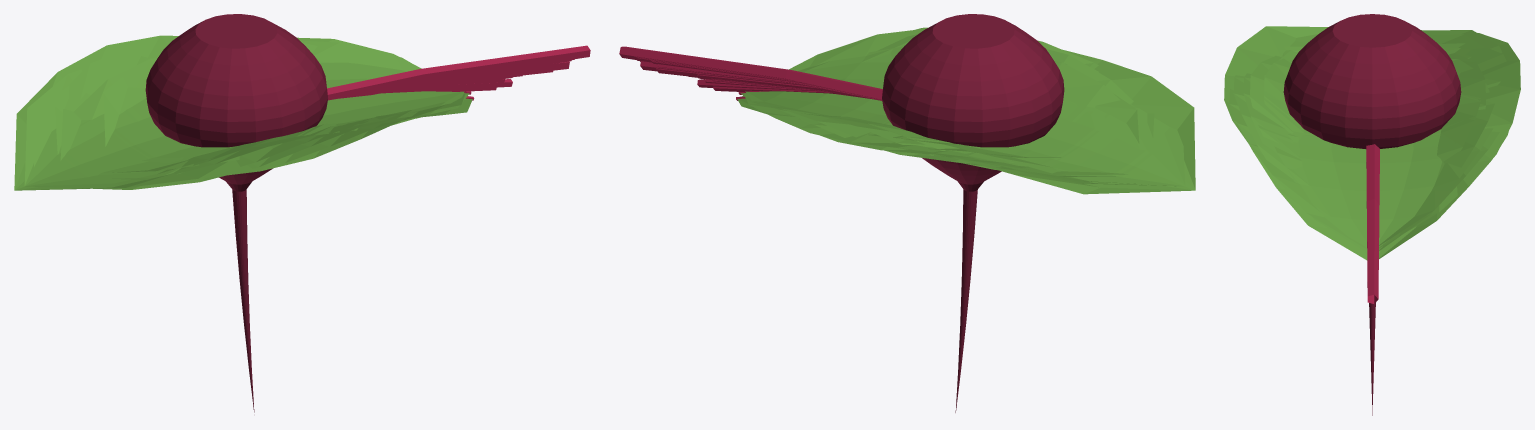
Rendered from beetroot_harvest_v11.articulated.glb.
3 renders of one model, left to right at view 1: azimuth 30°, elevation 25°; view 2: azimuth 150°, elevation 25°; view 3: azimuth 270°, elevation 25°, orthographic. The views are drawn at different scales.
Visible parts, largest first — view 1: root, leaf06_link2, leaf08_link2, leaf08_link0, leaf04_link2, leaf07_link2, leaf01_link2, leaf02_link2, leaf00_link2, leaf01_link0, leaf03_link2, leaf01_link1; view 2: root, leaf06_link2, leaf08_link2, leaf07_link2, leaf08_link0, leaf03_link2, leaf01_link2, leaf00_link2, leaf04_link2, leaf02_link2, leaf00_link0; view 3: root, leaf06_link2, leaf08_link2, leaf01_link2, leaf04_link2, leaf07_link2, leaf03_link2, leaf08_link0, leaf00_link2, leaf05_link2, leaf02_link2.
Part boxes in pixels (x1,y1,x2,y2): root: (145, 14, 327, 412); leaf06_link2: (24, 37, 465, 189); leaf08_link2: (14, 35, 466, 190); leaf08_link0: (327, 45, 590, 100); leaf04_link2: (34, 40, 471, 166); leaf07_link2: (60, 42, 417, 175); leaf01_link2: (55, 56, 474, 179); leaf02_link2: (103, 77, 420, 162); leaf00_link2: (74, 57, 420, 172); leaf01_link0: (360, 61, 569, 96); leaf03_link2: (157, 121, 341, 174); leaf01_link1: (380, 79, 512, 93); root: (882, 14, 1064, 412); leaf06_link2: (744, 34, 1185, 186); leaf08_link2: (743, 28, 1195, 194); leaf07_link2: (804, 49, 1146, 175); leaf08_link0: (619, 46, 882, 99); leaf03_link2: (831, 60, 1120, 153); leaf01_link2: (736, 27, 1154, 176); leaf00_link2: (866, 46, 1139, 173); leaf04_link2: (738, 48, 1148, 184); leaf02_link2: (927, 98, 1105, 157); leaf00_link0: (656, 68, 881, 100); root: (1283, 14, 1461, 415); leaf06_link2: (1233, 30, 1502, 246); leaf08_link2: (1224, 26, 1520, 248); leaf01_link2: (1229, 43, 1508, 260); leaf04_link2: (1243, 34, 1493, 252); leaf07_link2: (1250, 47, 1494, 179); leaf03_link2: (1264, 58, 1480, 161); leaf08_link0: (1366, 144, 1379, 303); leaf00_link2: (1274, 50, 1485, 183); leaf05_link2: (1264, 68, 1480, 143); leaf02_link2: (1255, 59, 1489, 143).
Bounding box in the file's own units: 0.2411 × 0.1562 × 0.1116.
Materials: 1 (1 with a texture image).
